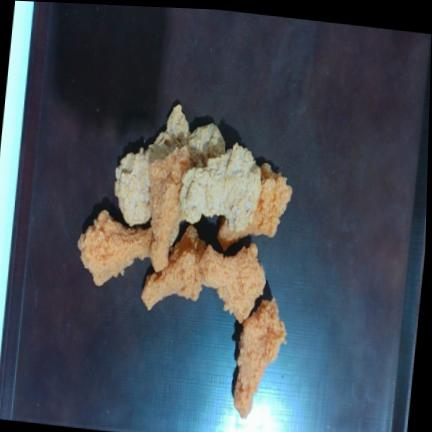chicken: (179, 143, 261, 231), (217, 163, 291, 249), (233, 297, 286, 417), (78, 210, 152, 285), (141, 226, 206, 309), (200, 243, 265, 322), (149, 147, 190, 270), (114, 149, 150, 225)
